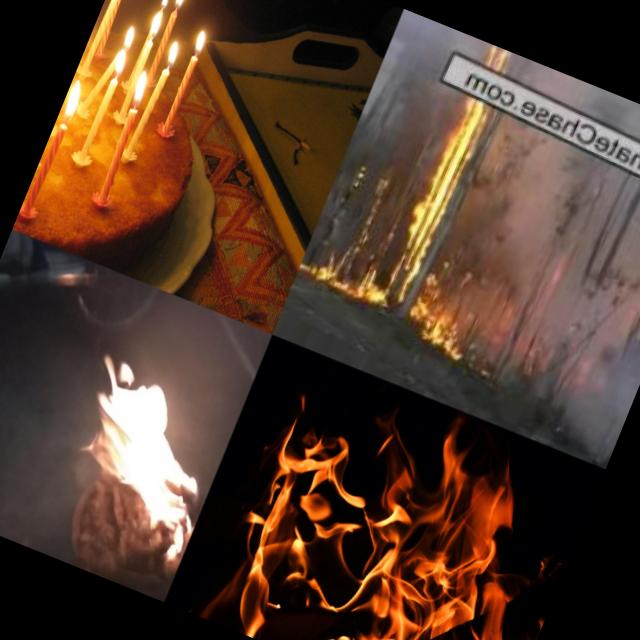fire: (181, 355, 599, 640), (294, 62, 512, 337), (37, 342, 243, 560), (395, 275, 494, 371), (56, 66, 95, 126), (105, 20, 141, 83), (143, 0, 191, 42), (125, 66, 154, 110), (160, 34, 186, 70), (188, 22, 212, 56)
smoke: (457, 232, 640, 458), (474, 132, 640, 279)
